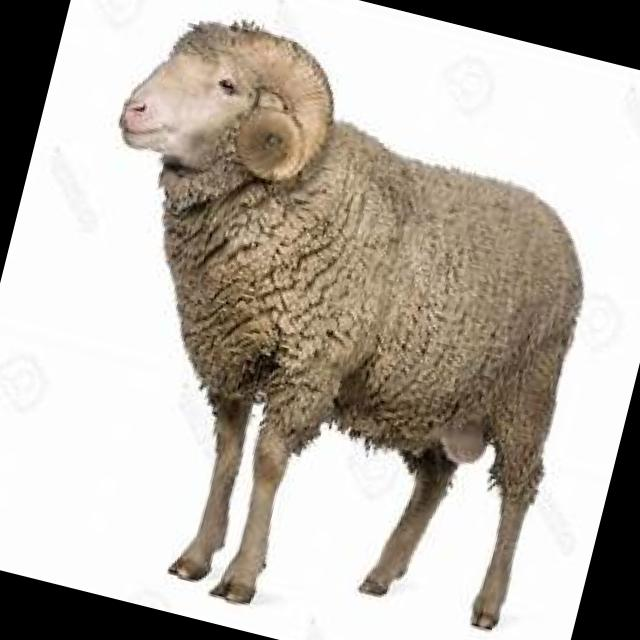animal: (13, 0, 637, 640)
